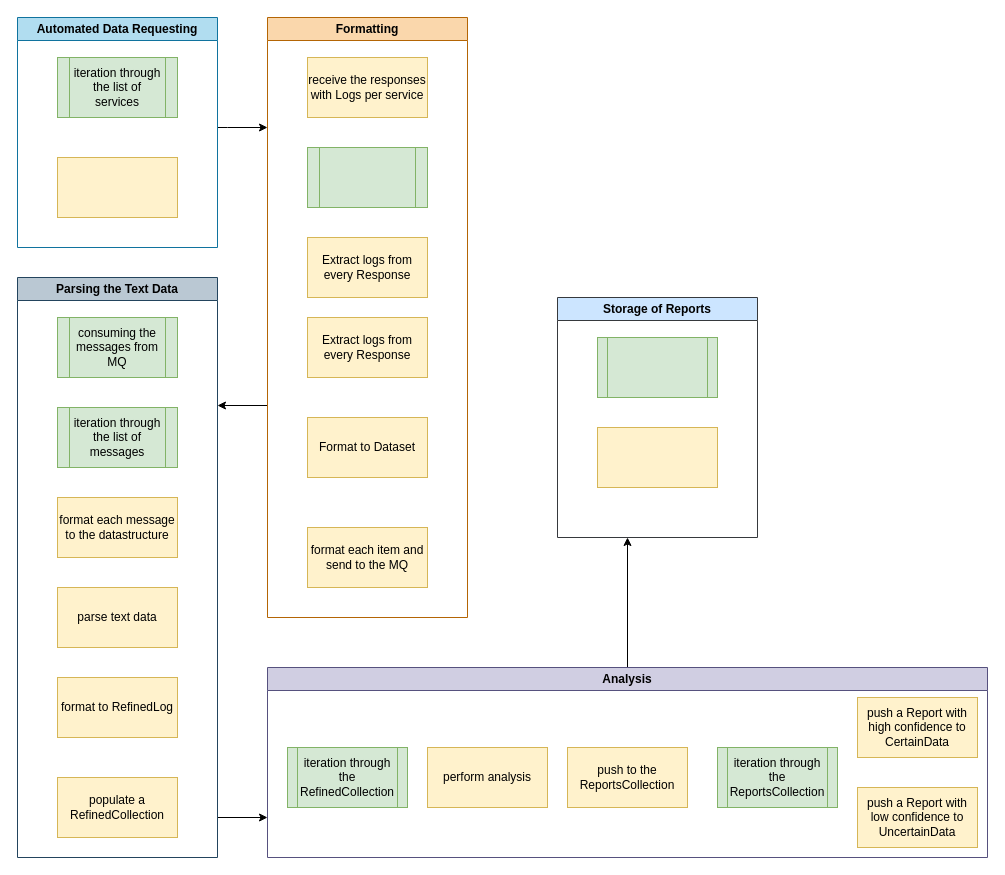
Some shapes in this 1005 by 875 pixel diagram are drawn without their labels. The centre of each missing label's shape, as x and y in pixels:
"iteration through the CertainData" goes at (x=657, y=367).
"iteration through the responses and formating to objects" goes at (x=367, y=177).
"Save a Report to the ReportDB" goes at (x=657, y=457).
"send request to fetch logs of a particular service" goes at (x=117, y=187).
